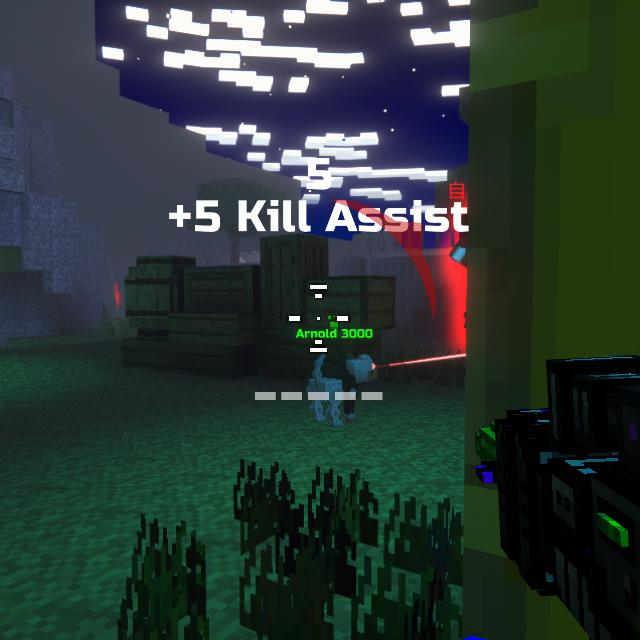Enemy: (449, 212, 468, 329)
